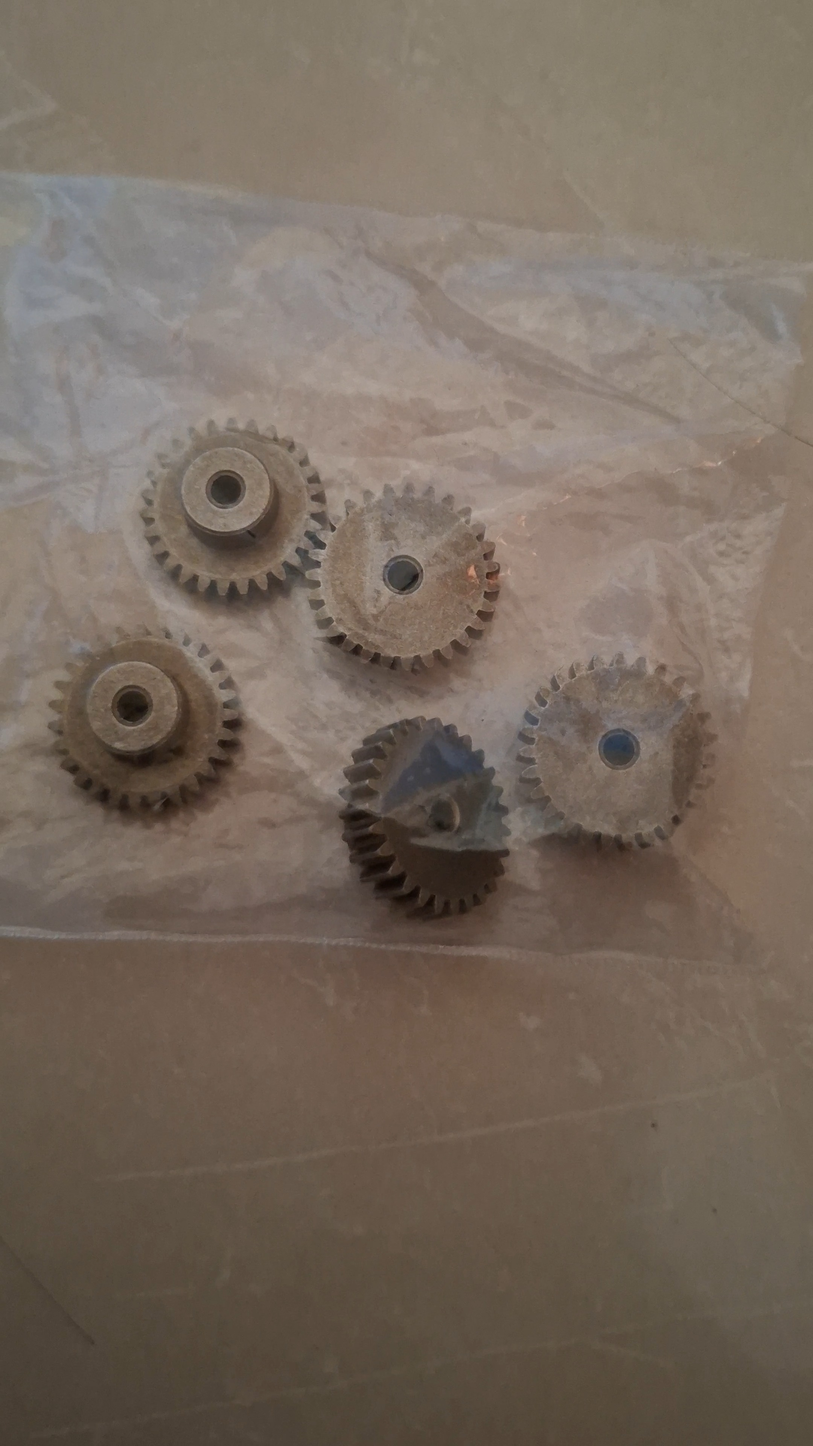spur gear: (519, 654, 714, 847), (306, 483, 498, 669), (49, 628, 239, 806), (341, 718, 509, 915), (141, 419, 326, 596)
